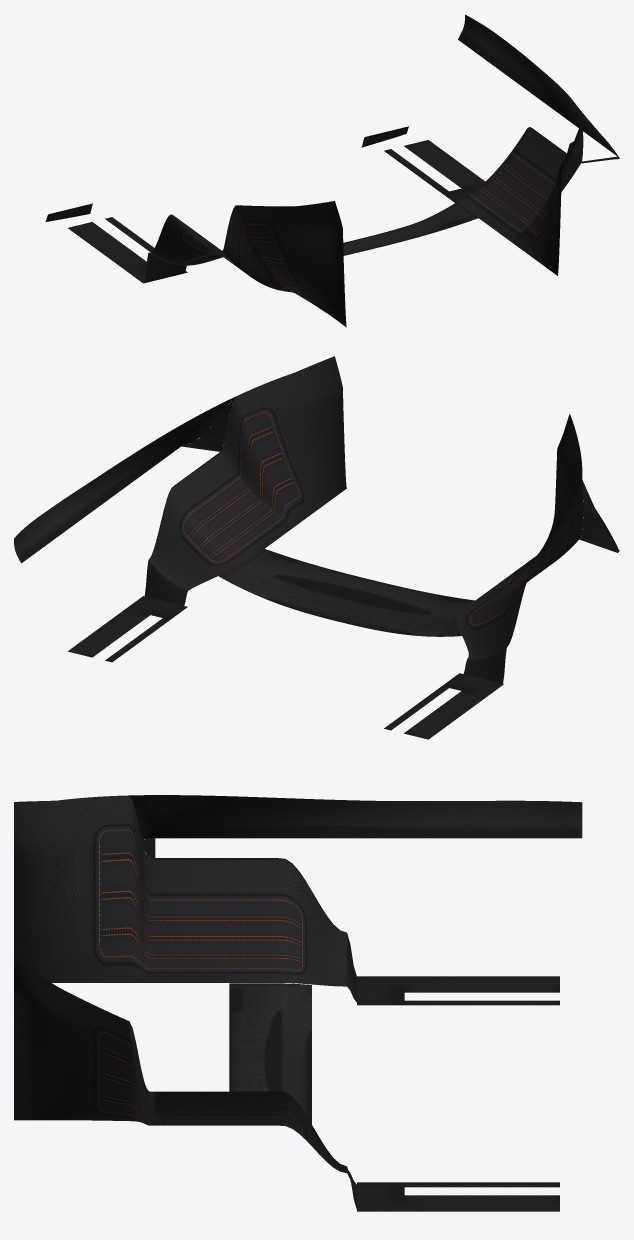
File: tub_hd.glb
3 views of the same model, one above another, from view 1: azimuth 30°, elevation 25°; view 2: azimuth 150°, elevation 25°; view 3: azimuth 270°, elevation 25° (orthographic). The views are drawn at different scales.
Visible parts, largest first — view 1: Tub; view 2: Tub; view 3: Tub.
Boxes of the visible parts, x1,y1,x2,y2 form: Tub: (45,14,619,327); Tub: (14,356,619,739); Tub: (14,795,582,1211).
Size of the model in its own units: 1.42 by 0.514 by 1.21.
Materials: 1 (1 with a texture image).
